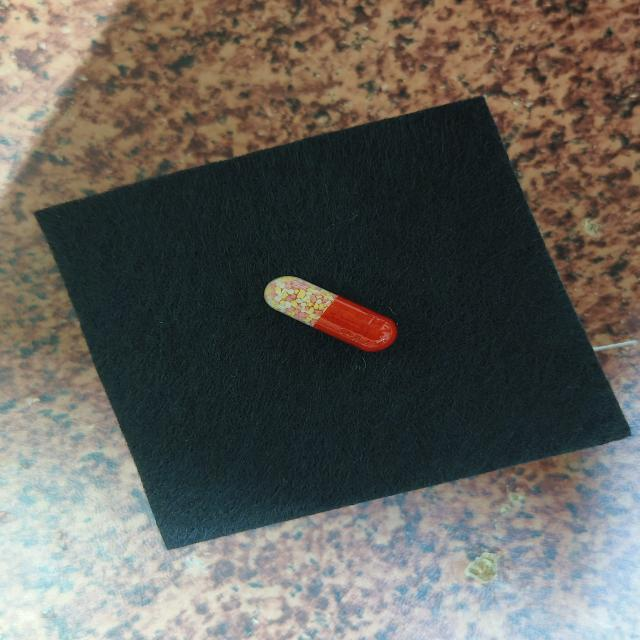Intact Capsule: (264, 276, 397, 352)
